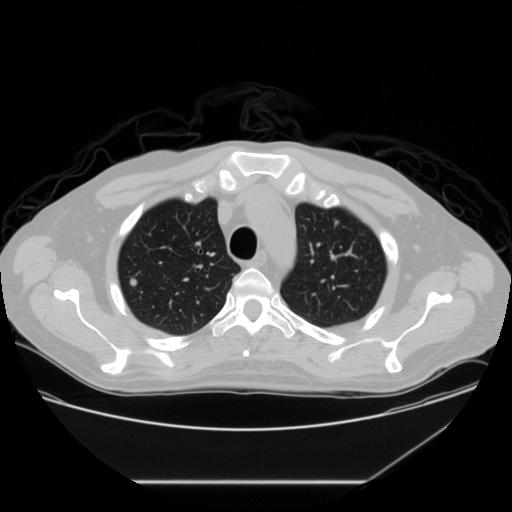nodule: (126, 275, 140, 289)
